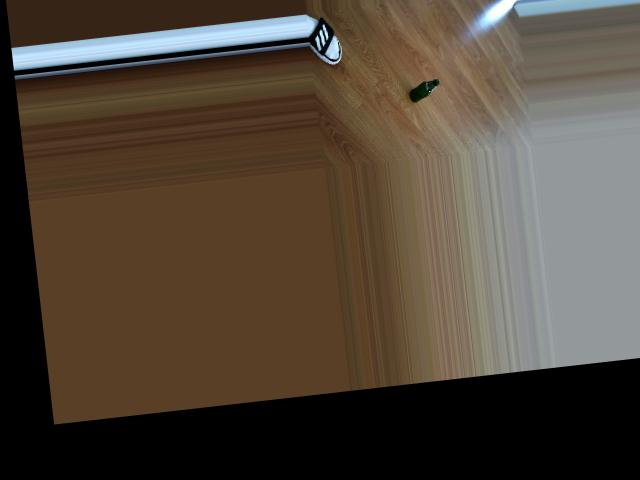beer: (408, 78, 440, 101)
